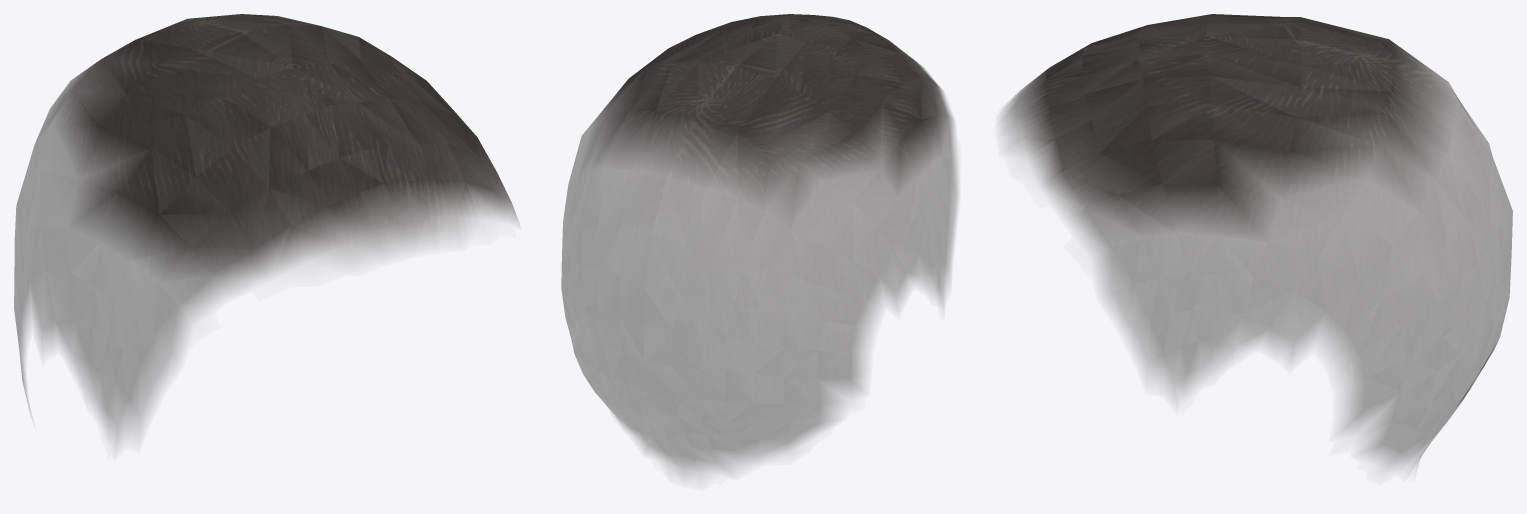
The model's file is hair_mh.glb.
3 views of the same model, side by side, from view 1: azimuth 30°, elevation 25°; view 2: azimuth 150°, elevation 25°; view 3: azimuth 270°, elevation 25° (orthographic). The views are drawn at different scales.
Parts seen in each view (by area): view 1: hair_scalp; view 2: hair_scalp; view 3: hair_scalp.
Part boxes in pixels (x1,y1,x2,y2): hair_scalp: [14, 14, 518, 443]; hair_scalp: [561, 14, 958, 476]; hair_scalp: [1000, 14, 1512, 467].
Bounding box in the file's own units: 0.1589 × 0.1865 × 0.1972.
Materials: 1 (1 with a texture image).
